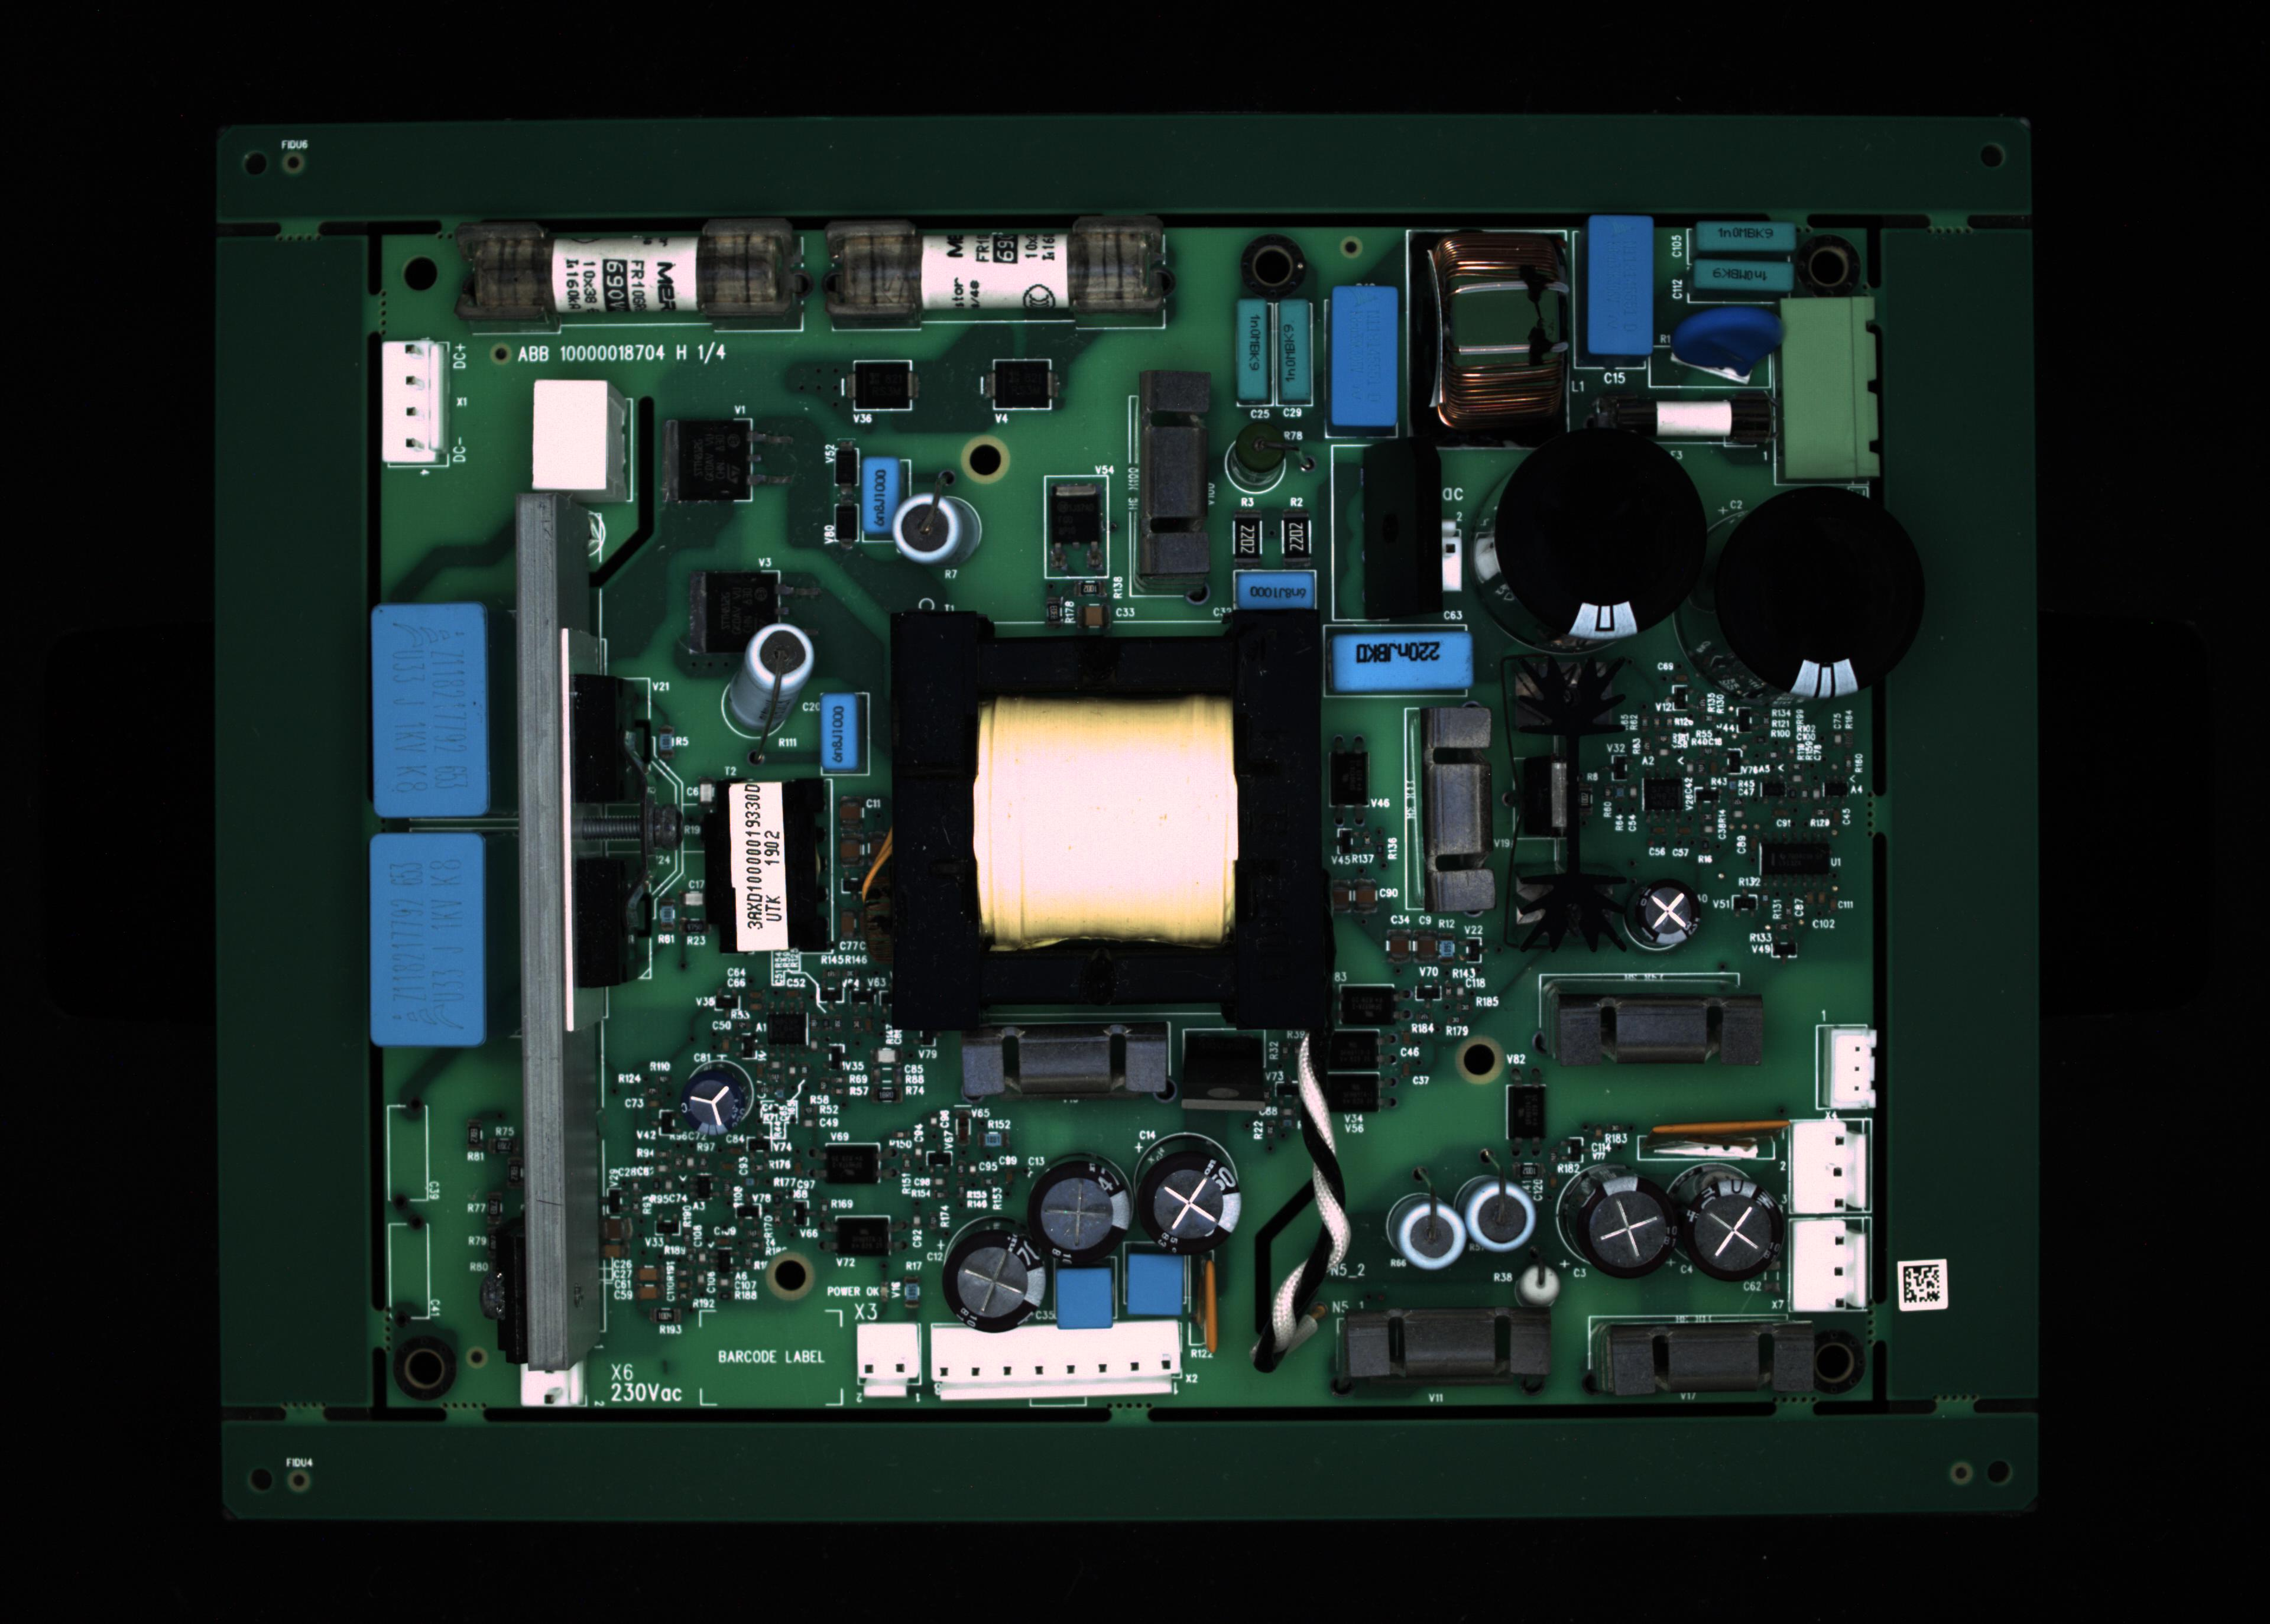10_p: (1648, 346, 1772, 394)
11_q: (1779, 299, 1876, 489)
12_r: (1591, 387, 1776, 455)
13_s: (380, 337, 447, 473)
14_t: (529, 380, 629, 503)
15_e: (855, 459, 907, 547)
16_k: (891, 464, 985, 569)
17_u: (1127, 385, 1206, 608)
18_v: (1238, 569, 1317, 608)
19_w: (1333, 631, 1475, 691)
1_a: (455, 216, 807, 330)
20_f: (1393, 517, 1470, 599)
21_g: (1475, 429, 1709, 670)
22_g: (1713, 482, 1929, 694)
23_h: (375, 601, 492, 816)
24_h: (369, 828, 482, 1044)
25_f: (515, 1360, 591, 1411)
26_f: (856, 1322, 921, 1397)
27_x: (928, 1318, 1183, 1406)
28_i: (1129, 1155, 1240, 1250)
29_i: (1027, 1153, 1134, 1274)
2_a: (819, 216, 1175, 325)
30_i: (942, 1234, 1055, 1334)
31_j: (1053, 1267, 1111, 1329)
32_j: (1125, 1253, 1180, 1318)
33_e: (819, 692, 863, 770)
34_k: (1387, 1193, 1465, 1276)
35_k: (1456, 1178, 1539, 1257)
36_i: (1575, 1174, 1672, 1278)
37_i: (1679, 1174, 1786, 1283)
38_l: (1335, 1306, 1558, 1385)
39_l: (1590, 1316, 1820, 1403)
3_b: (1234, 295, 1270, 410)
40_l: (1556, 991, 1765, 1069)
41_y: (1407, 678, 1505, 919)
42_z: (1818, 1028, 1874, 1114)
43_m: (1792, 1120, 1869, 1216)
44_m: (1786, 1218, 1871, 1313)
45_i: (679, 1065, 747, 1135)
46_n: (1338, 982, 1412, 1028)
47_n: (811, 1142, 899, 1192)
48_n: (818, 1214, 911, 1265)
49_aa: (765, 1011, 811, 1046)
4_b: (1280, 299, 1317, 410)
50_n: (1321, 1030, 1391, 1070)
51_n: (1308, 1070, 1396, 1120)
52_ab: (1326, 740, 1368, 830)
53_ac: (1656, 1130, 1790, 1165)
54_ad: (1194, 1253, 1222, 1364)
55_l: (958, 1025, 1175, 1100)
56_ae: (1176, 1025, 1270, 1111)
57_af: (1509, 647, 1635, 951)
58_i: (1630, 884, 1706, 958)
59_o: (981, 359, 1067, 417)
5_c: (1328, 286, 1400, 429)
60_o: (840, 357, 923, 420)
6_ag: (1405, 232, 1572, 452)
7_c: (1588, 218, 1649, 355)
8_d: (1693, 218, 1793, 250)
9_d: (1695, 258, 1795, 288)
